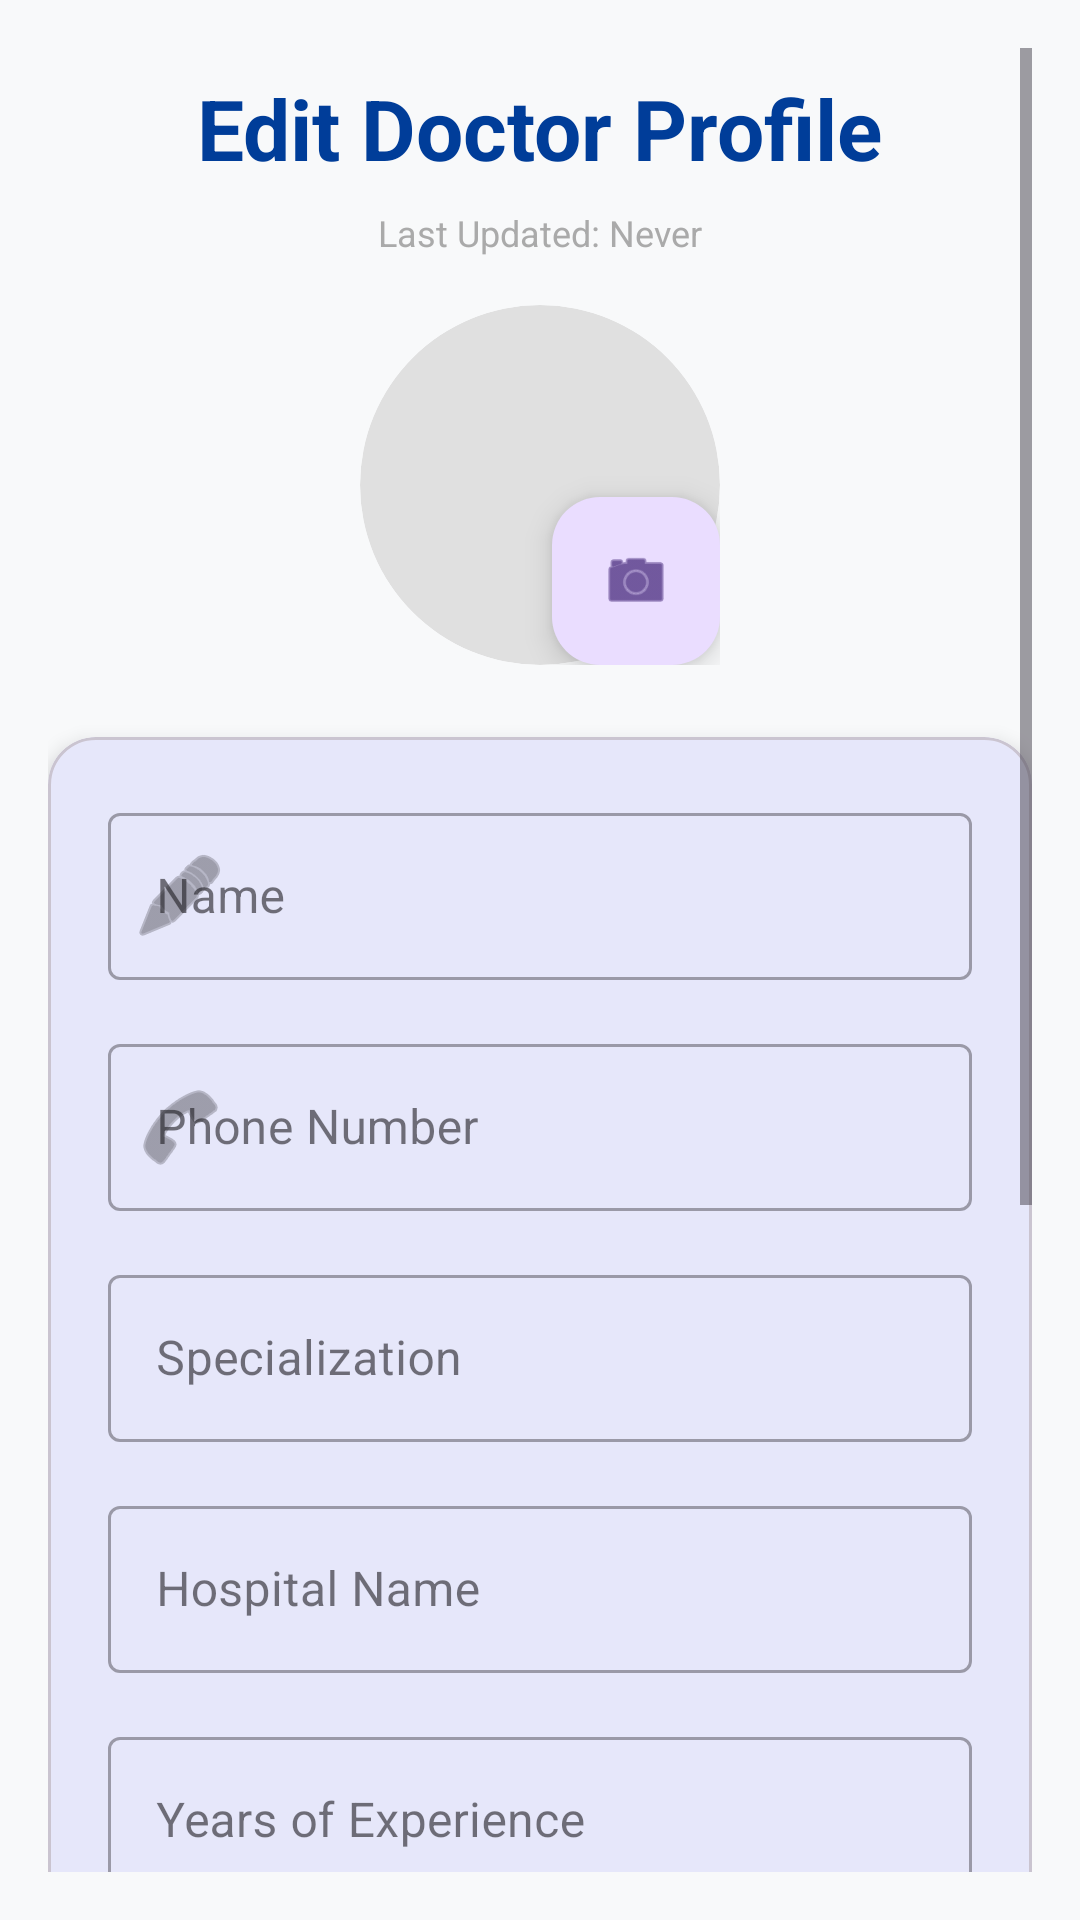

Icon click points for this 1080 × 1920 phone screenshot, format point (x, y):
Update Photo: point (636, 581)
